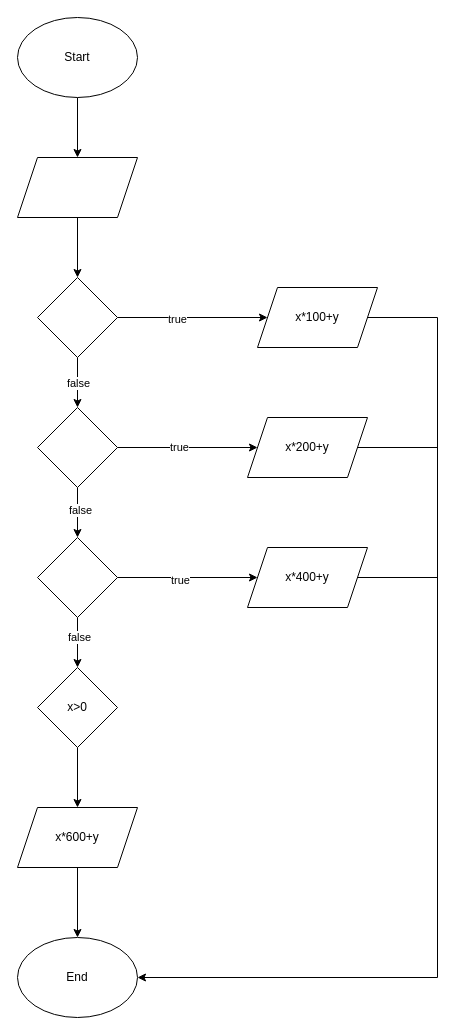
This 463x1035 diagram has some shape labels left out. The shapes that lost their labels are listed below. From the top down, each one's box as (x1, y1, x2, y2) in pixels, then its label:
(16, 156, 138, 218): Nhập số phút gọi là x, phí thuê bao hàng tháng là y=25000
(36, 276, 118, 358): x>200
(36, 406, 118, 488): x>150
(36, 536, 118, 618): x>50
